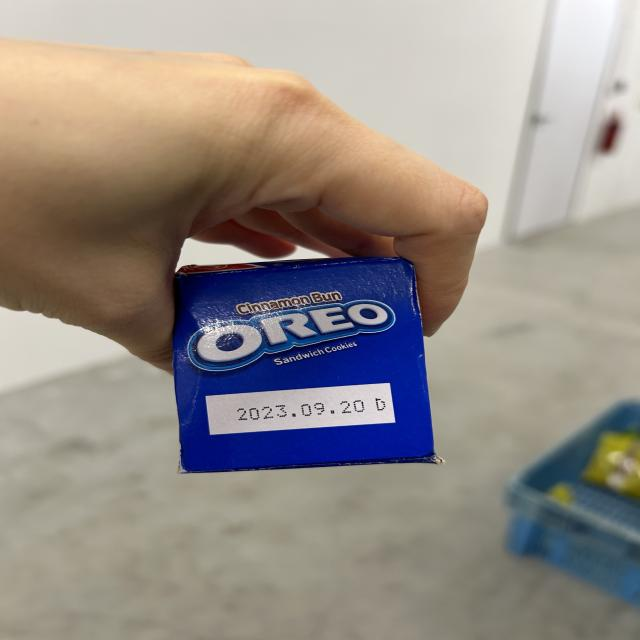object_name: (167, 276, 432, 468)
